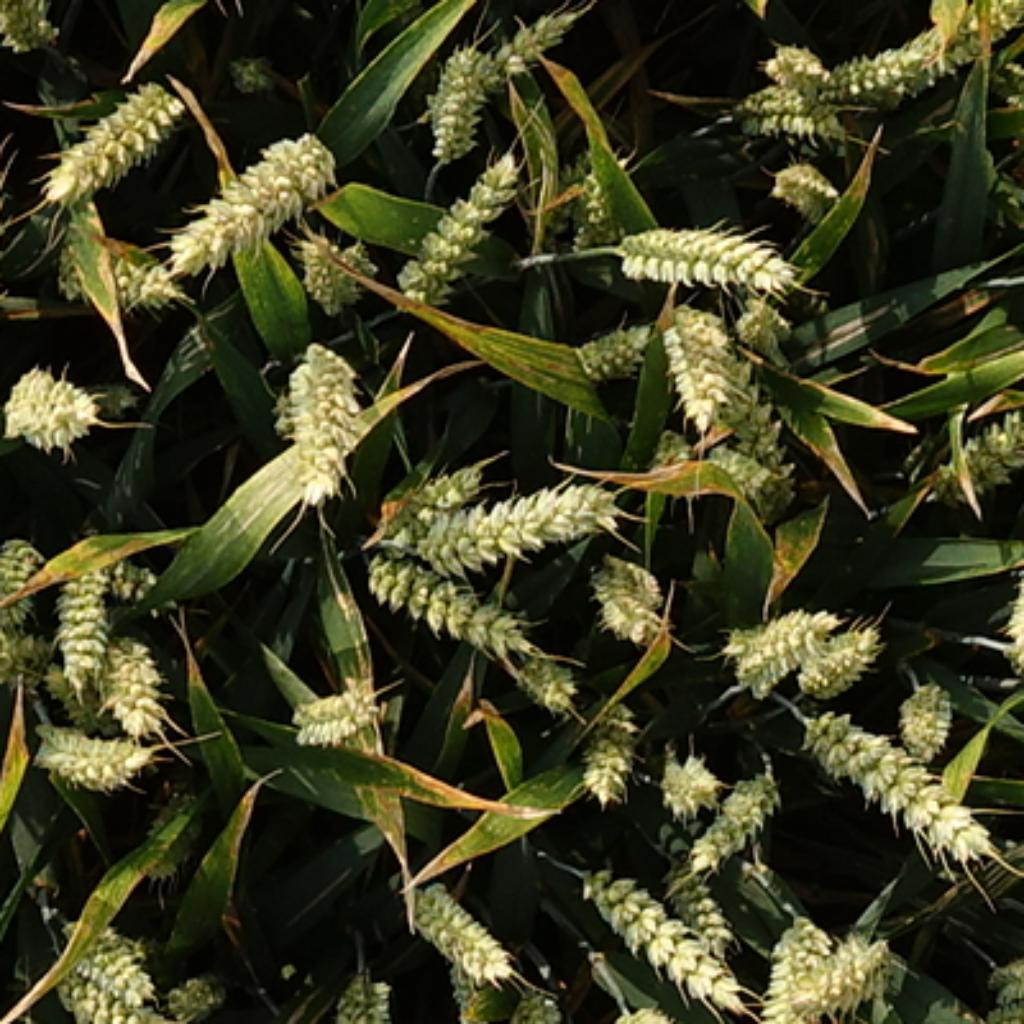0-0: (801, 698, 1003, 867), (578, 862, 750, 1013), (171, 120, 340, 271), (353, 542, 547, 657), (412, 476, 632, 576), (35, 64, 192, 202), (258, 335, 376, 512), (394, 145, 524, 304), (916, 340, 1024, 506), (53, 224, 197, 339), (399, 862, 519, 985), (609, 209, 798, 286), (773, 924, 908, 1024), (655, 296, 747, 422), (417, 28, 509, 153), (721, 593, 837, 686), (40, 952, 186, 1024), (373, 460, 501, 542), (48, 550, 125, 686), (476, 5, 593, 94), (728, 366, 812, 486), (737, 926, 839, 1024), (79, 619, 171, 727), (655, 852, 744, 960), (693, 757, 785, 860), (803, 43, 944, 110), (898, 0, 1024, 74), (56, 916, 156, 1008), (547, 140, 634, 245), (28, 716, 148, 785), (588, 550, 673, 647), (729, 76, 842, 148), (7, 367, 90, 455), (570, 698, 642, 796), (299, 225, 378, 312), (796, 614, 883, 693), (84, 552, 179, 622), (287, 683, 380, 751), (757, 33, 839, 107), (565, 307, 650, 378), (655, 744, 722, 829), (893, 673, 960, 755), (519, 650, 593, 719), (768, 148, 842, 209), (322, 965, 396, 1024), (448, 952, 499, 1024), (499, 975, 573, 1024), (166, 962, 232, 1016), (2, 529, 46, 609), (2, 616, 53, 680), (732, 289, 791, 343), (2, 2, 66, 48), (980, 947, 1024, 998), (226, 58, 270, 95)
